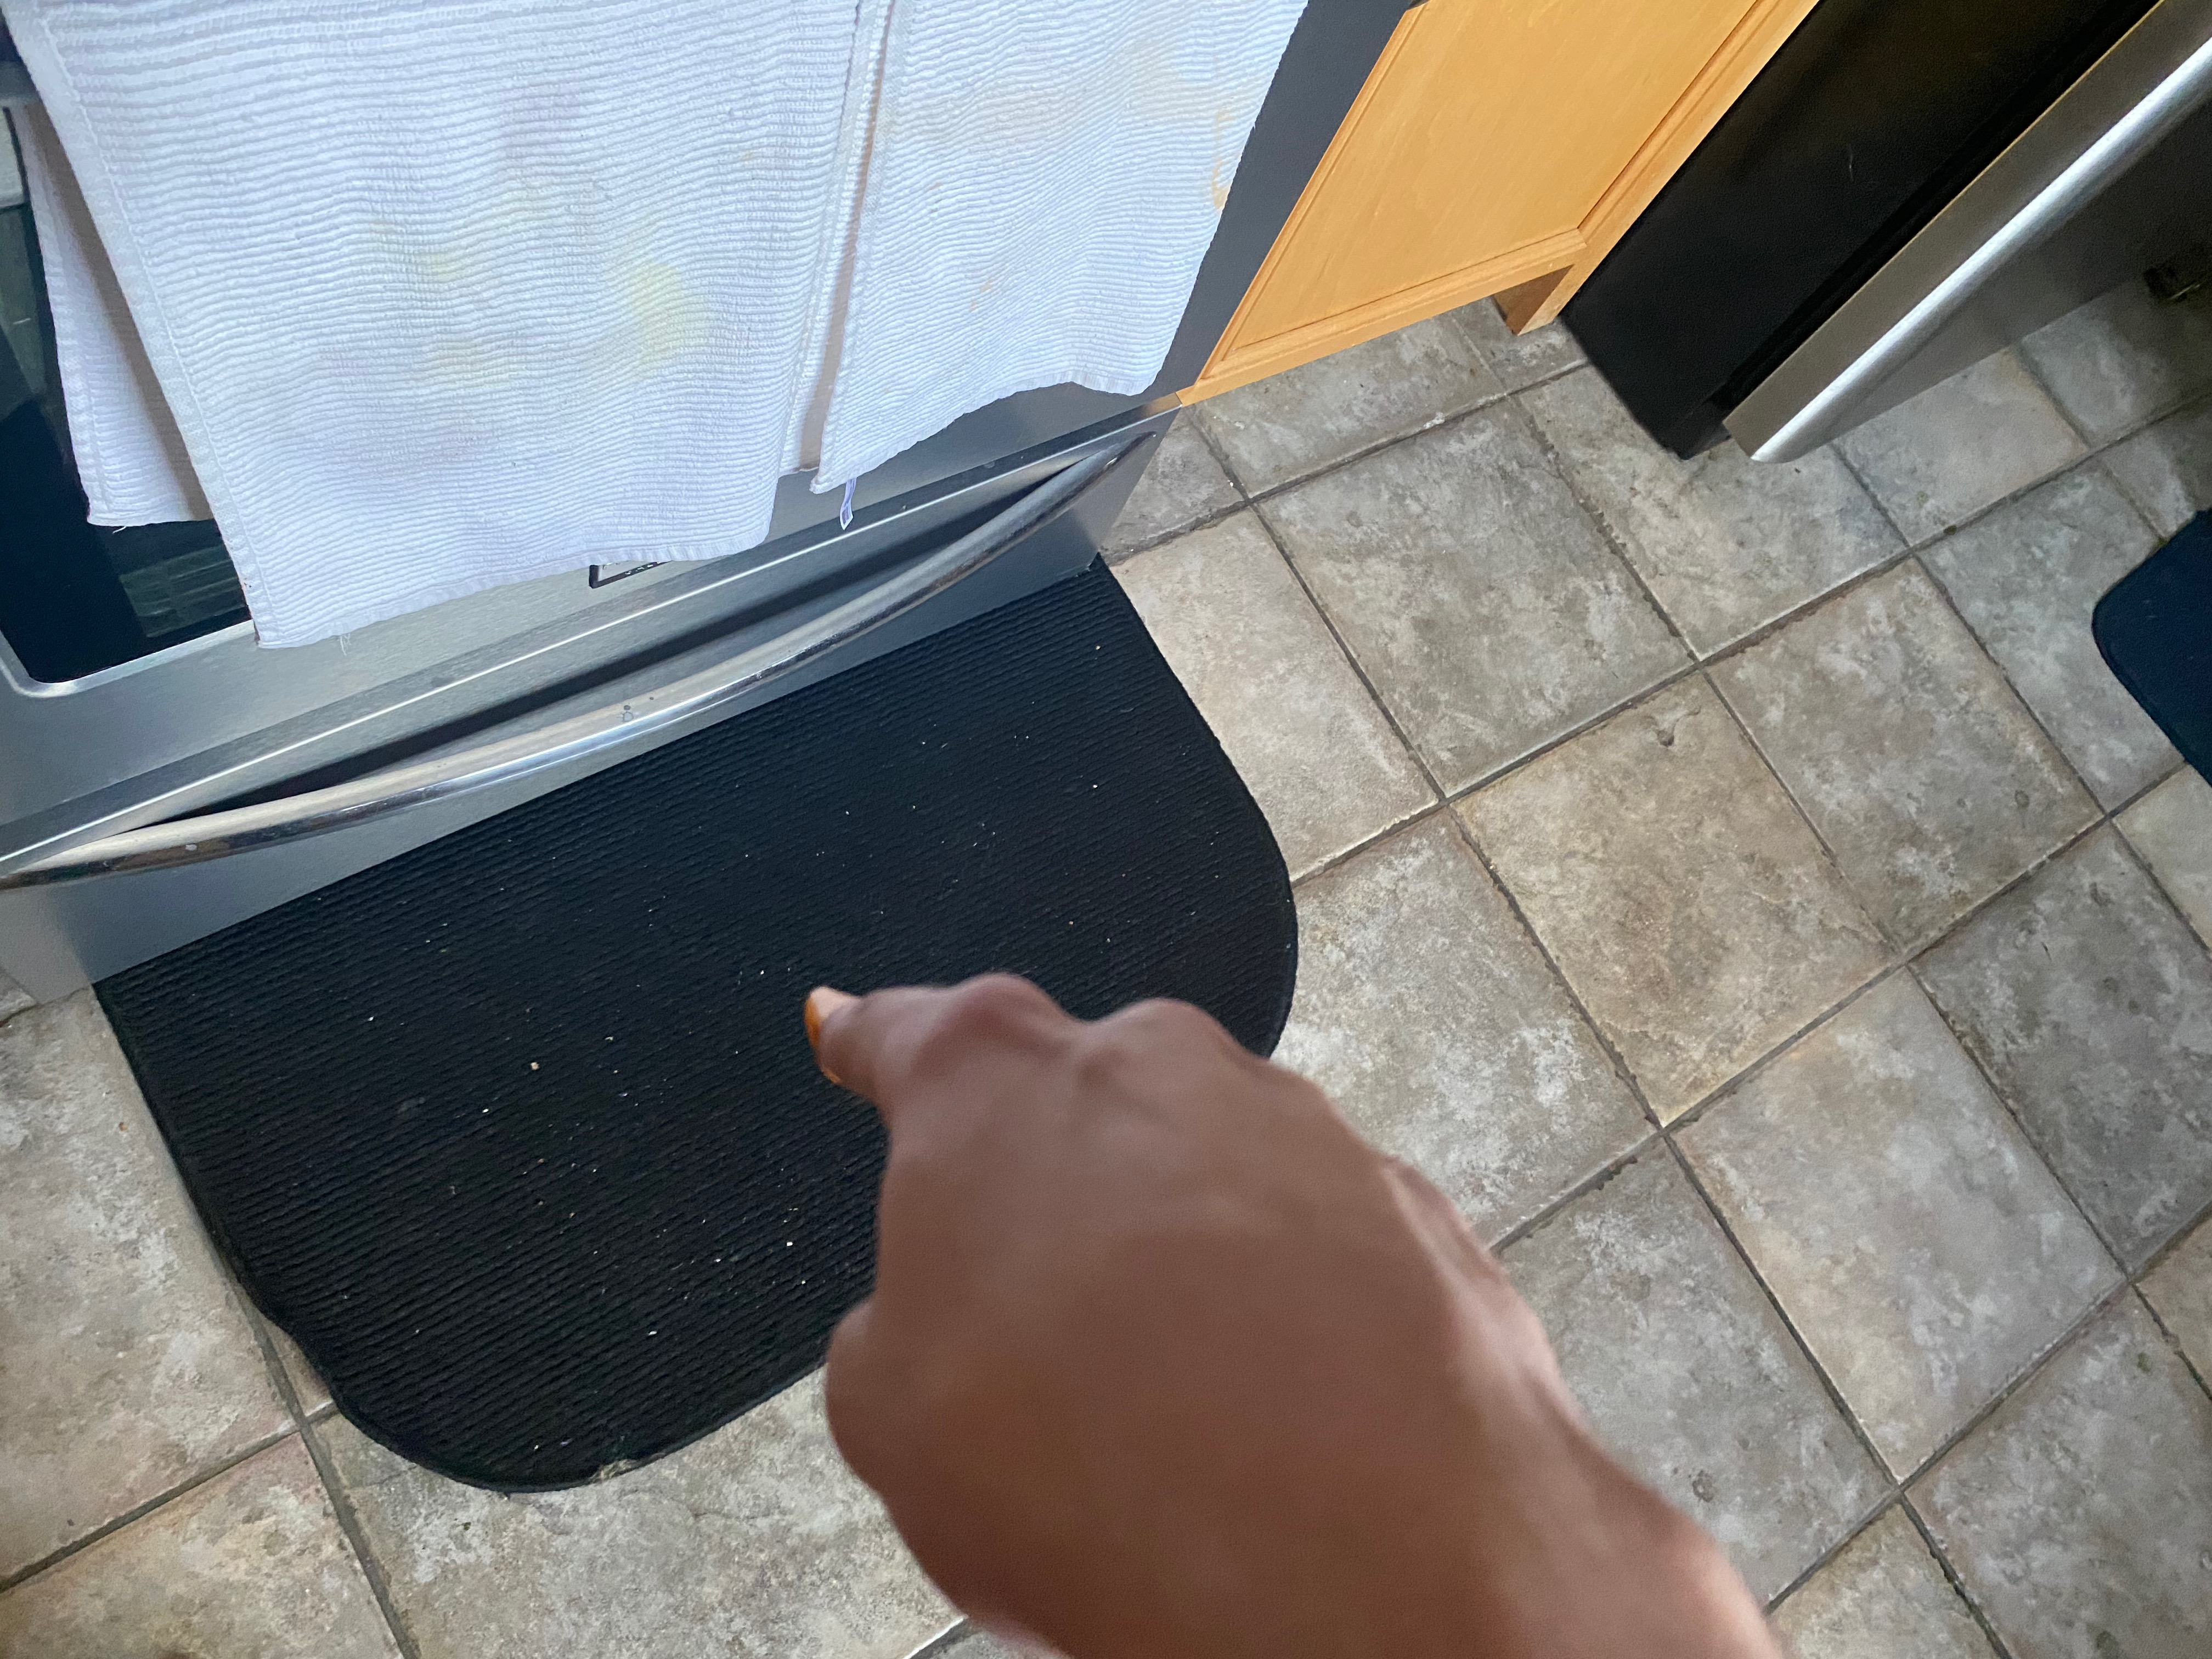fingertip: (787, 983, 909, 1068)
